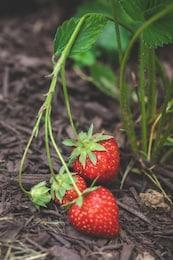Fresa: (64, 185, 127, 242), (65, 129, 124, 187), (49, 169, 88, 207)
